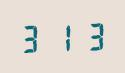one: (48, 20, 76, 52)
three: (18, 21, 46, 53), (77, 19, 105, 51)
